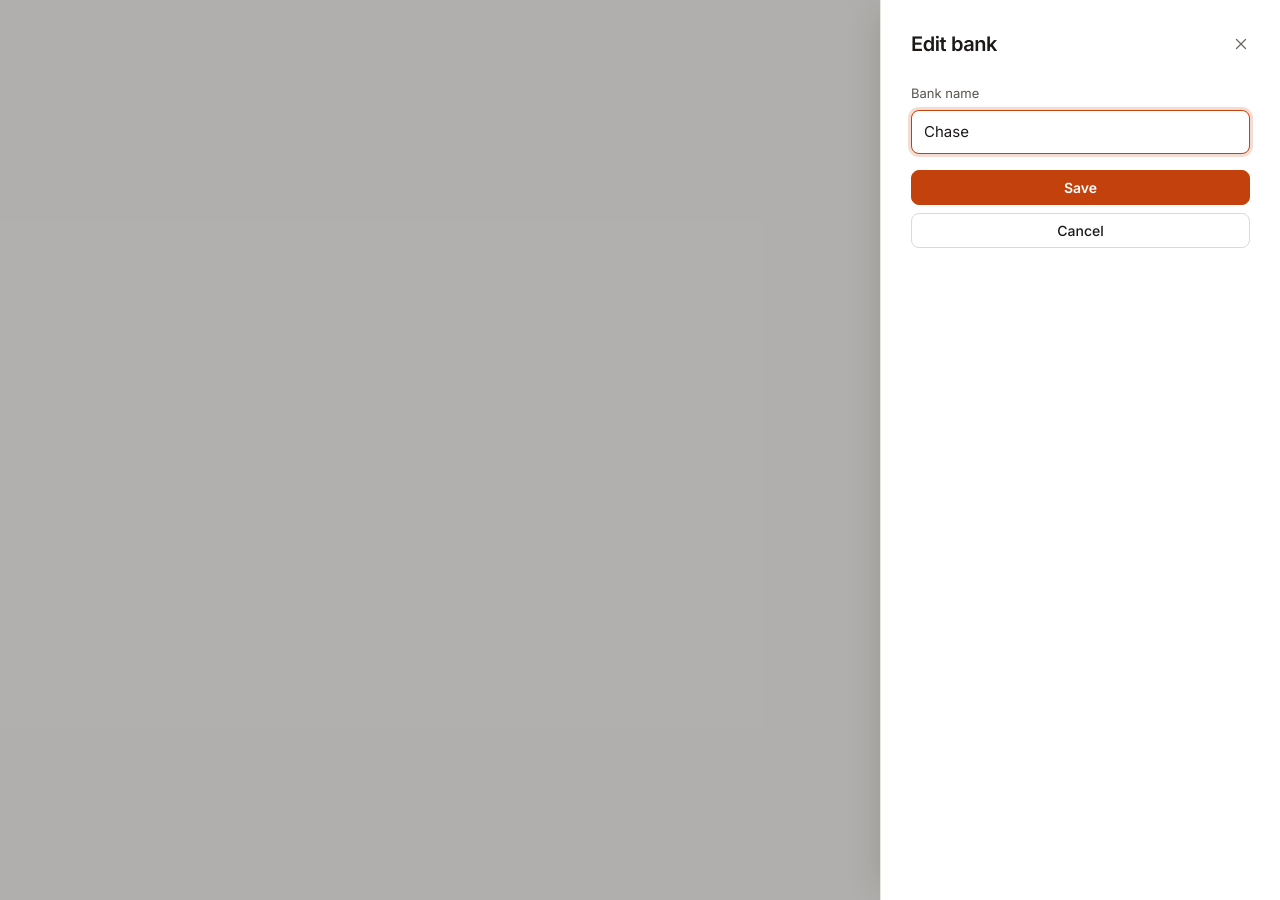
Test: EditBankForm › shows a validation error and doesn't submit for an empty name
The width and height of the screenshot is (1280, 900).
Step 1. Clear the field with id "bank-name" → (1080, 132), box [911,110,1250,154]
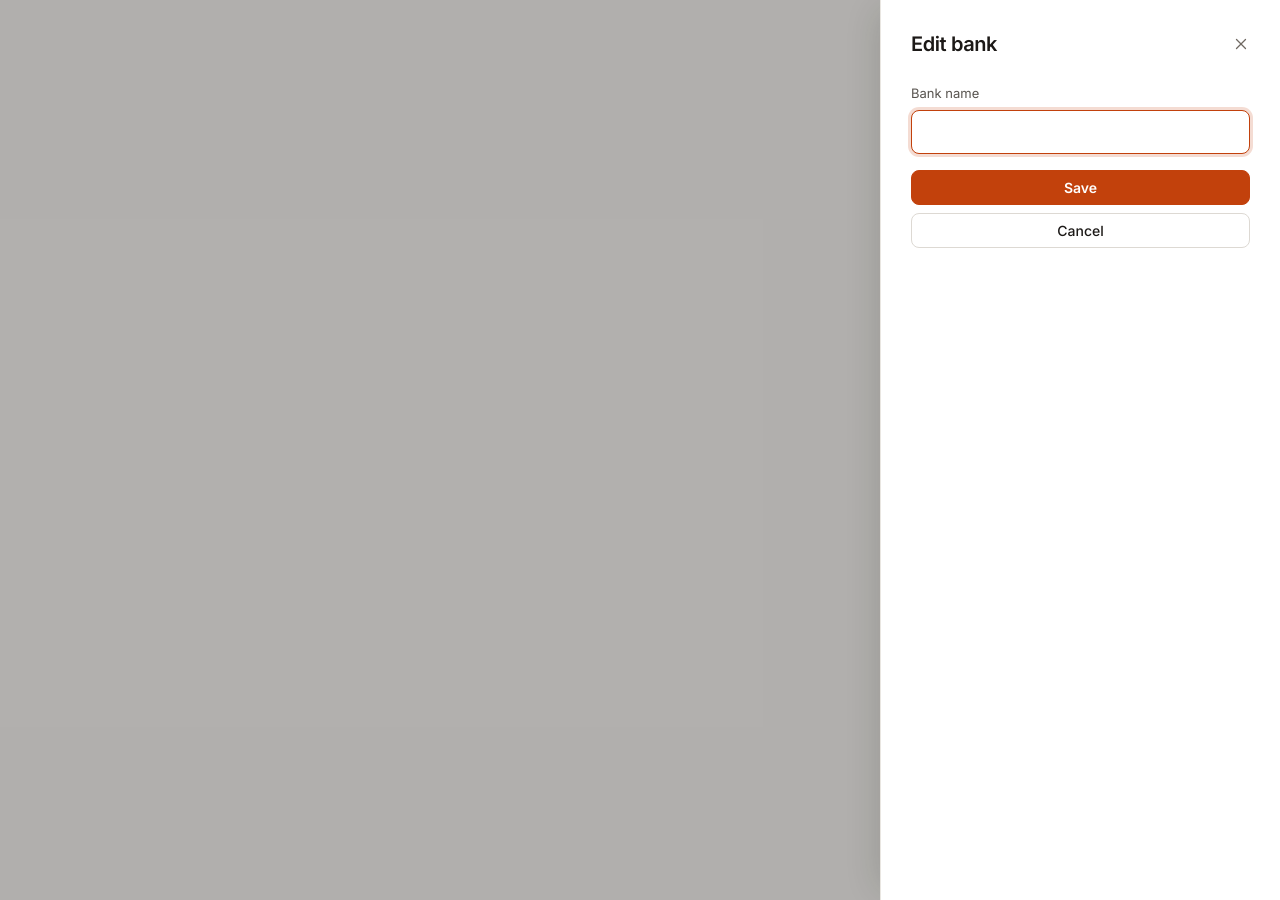
Step 2. Submit the form, box [911,80,1250,248]
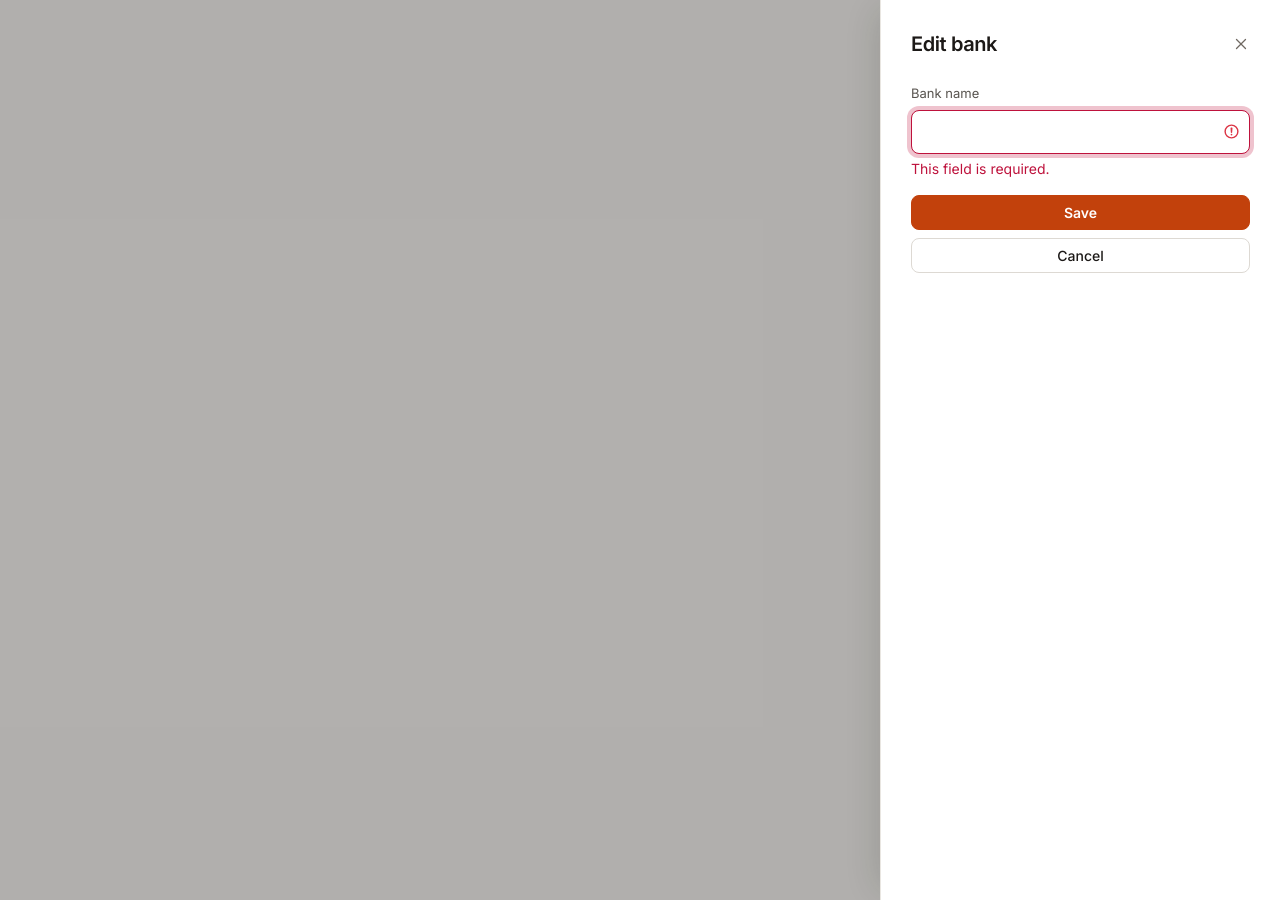
Expected: the text "This field is required." is shown, [911,160,1050,177]
